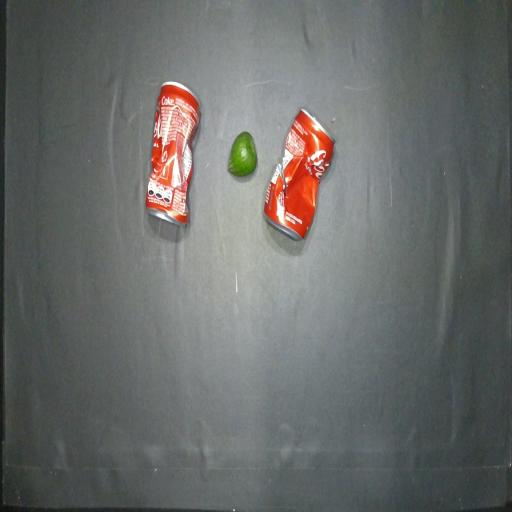higo: (229, 132, 257, 175)
lata_defectuoso: (263, 109, 334, 240), (146, 82, 200, 225)
